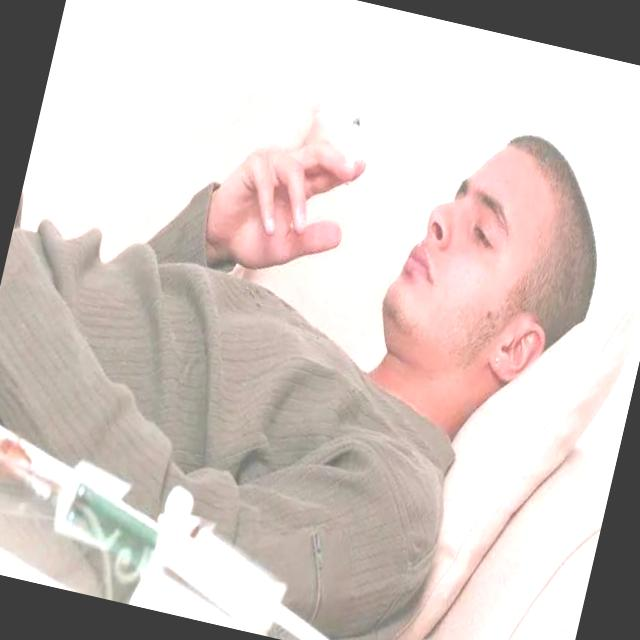cigarette: (320, 77, 391, 203)
